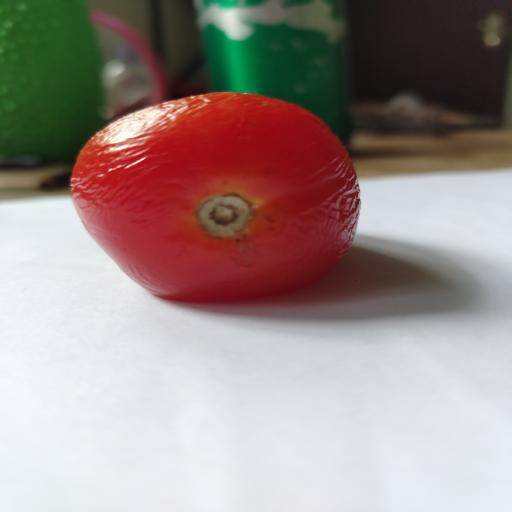spoiled: (72, 93, 360, 302)
